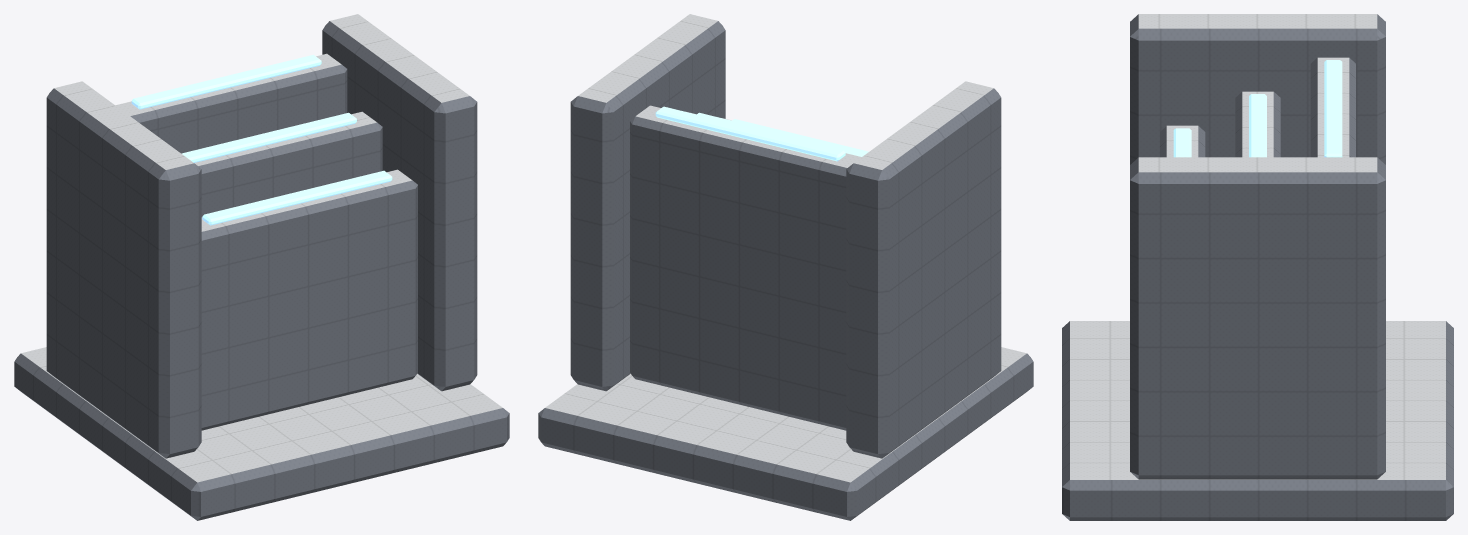
Rendered from R4X_WallDeployer_LOD1.glb.
The picture shows the model from 3 angles, left to right: view 1: azimuth 30°, elevation 25°; view 2: azimuth 150°, elevation 25°; view 3: azimuth 270°, elevation 25°; orthographic projection. The views are drawn at different scales.
Parts seen in each view (by area): view 1: R4X_WallDeployer_LOD1; view 2: R4X_WallDeployer_LOD1; view 3: R4X_WallDeployer_LOD1.
Part boxes in pixels (x1,y1,x2,y2): R4X_WallDeployer_LOD1: (14, 14, 509, 520); R4X_WallDeployer_LOD1: (538, 14, 1033, 520); R4X_WallDeployer_LOD1: (1062, 14, 1453, 520).
Bounding box in the file's own units: 0.52 × 0.51 × 0.52.
Materials: 3 (2 with a texture image).
